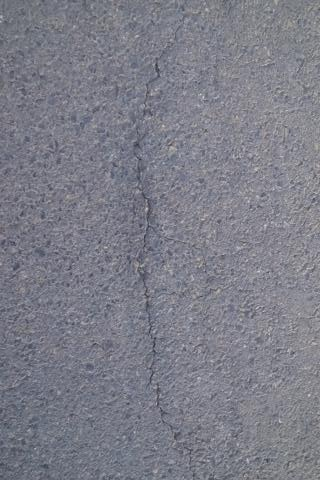A: (131, 4, 184, 442)
